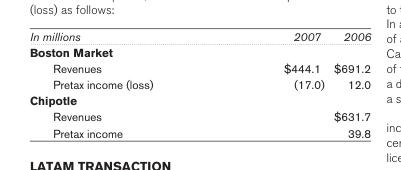table: (28, 28, 369, 139)
table column: (28, 28, 217, 139), (217, 28, 328, 139), (328, 28, 369, 139)
table column header: (28, 28, 369, 43)
table projected row header: (28, 43, 369, 59), (28, 92, 369, 108)
table row: (28, 75, 369, 92), (28, 43, 369, 59), (28, 59, 369, 75), (28, 92, 369, 108), (28, 108, 369, 124), (28, 28, 369, 43), (28, 124, 369, 139)
